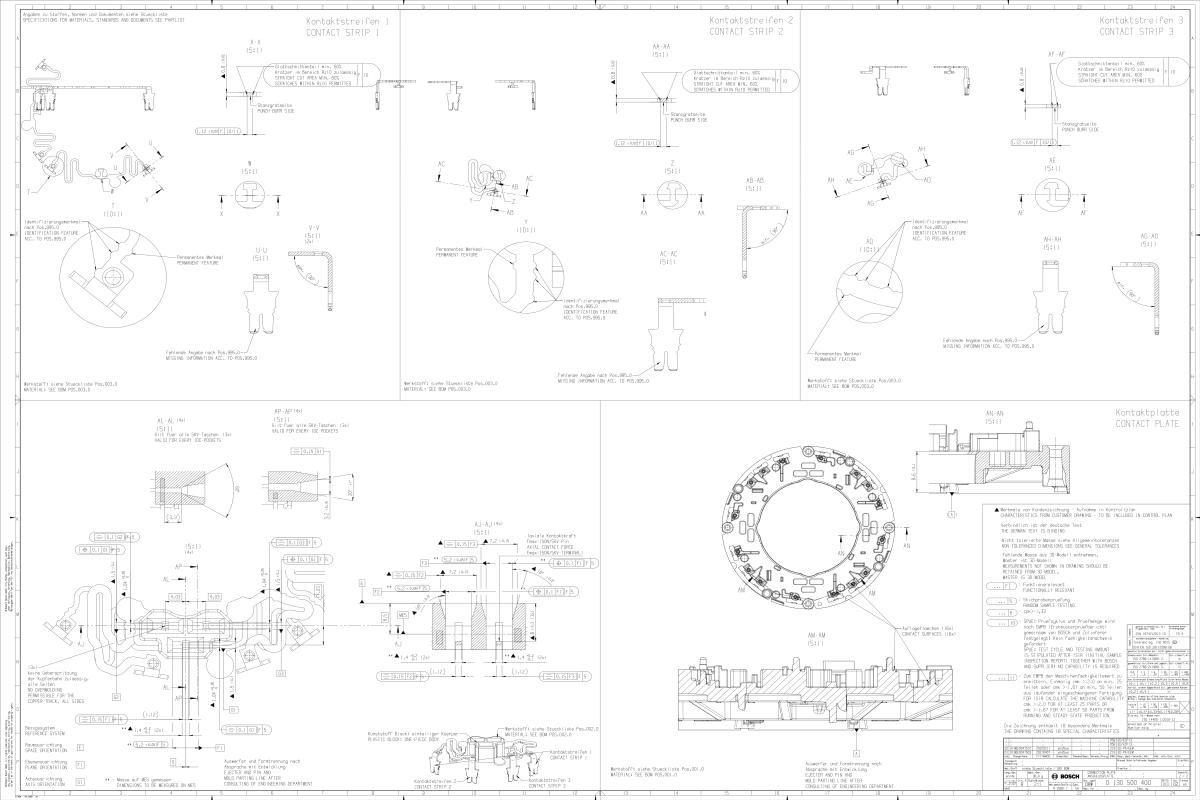falcon_r1: (25, 527, 334, 789), (345, 511, 600, 699), (709, 436, 920, 613), (672, 626, 962, 750), (800, 213, 983, 393), (20, 56, 186, 217), (188, 38, 419, 142), (23, 218, 226, 330), (602, 40, 800, 149), (354, 703, 599, 790), (1009, 46, 1190, 154), (938, 228, 1081, 352), (552, 285, 722, 389), (909, 405, 1083, 501), (428, 240, 622, 326), (160, 236, 285, 368), (140, 402, 249, 524), (257, 402, 360, 525), (428, 153, 559, 235), (816, 138, 946, 208), (631, 160, 717, 265), (1102, 228, 1173, 338), (731, 175, 793, 278), (211, 154, 296, 217), (1009, 156, 1093, 217), (286, 223, 342, 313), (491, 73, 546, 116), (857, 61, 908, 96), (932, 61, 978, 99), (425, 73, 465, 113)
